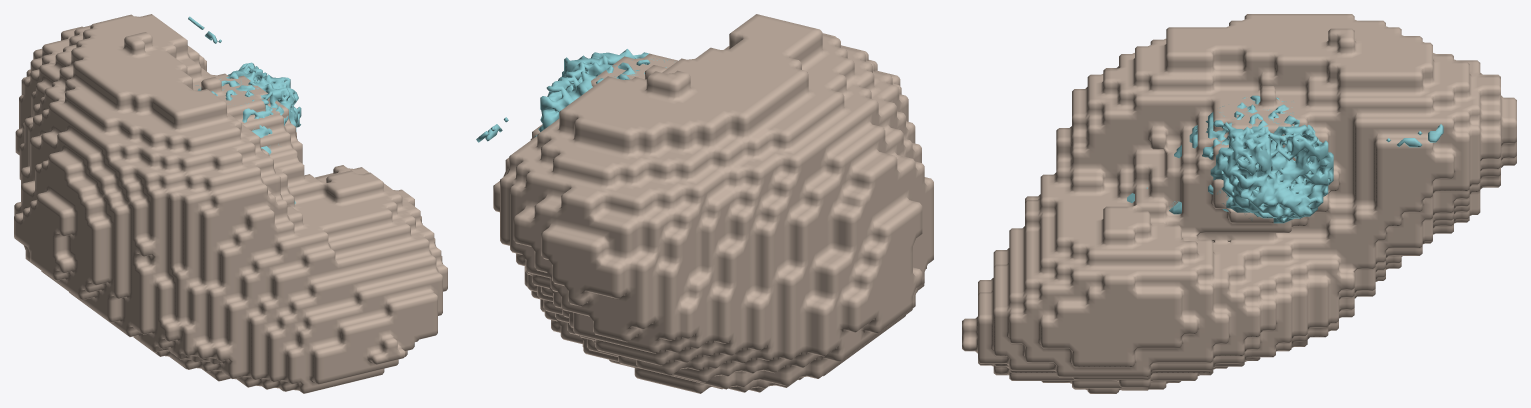
3 views of the same model, side by side, from view 1: azimuth 30°, elevation 25°; view 2: azimuth 150°, elevation 25°; view 3: azimuth 270°, elevation 25° (orthographic). The views are drawn at different scales.
Parts seen in each view (by area): view 1: parenchyma, collecting; view 2: parenchyma, collecting; view 3: parenchyma, collecting.
Part boxes in pixels (box(x1,y1,x2,y2)): parenchyma: box(14, 14, 447, 393); collecting: box(188, 16, 301, 204); parenchyma: box(493, 14, 933, 393); collecting: box(476, 49, 668, 142); parenchyma: box(962, 14, 1516, 393); collecting: box(1127, 95, 1443, 223).
Bounding box in the file's own units: 78 × 67 × 106.
